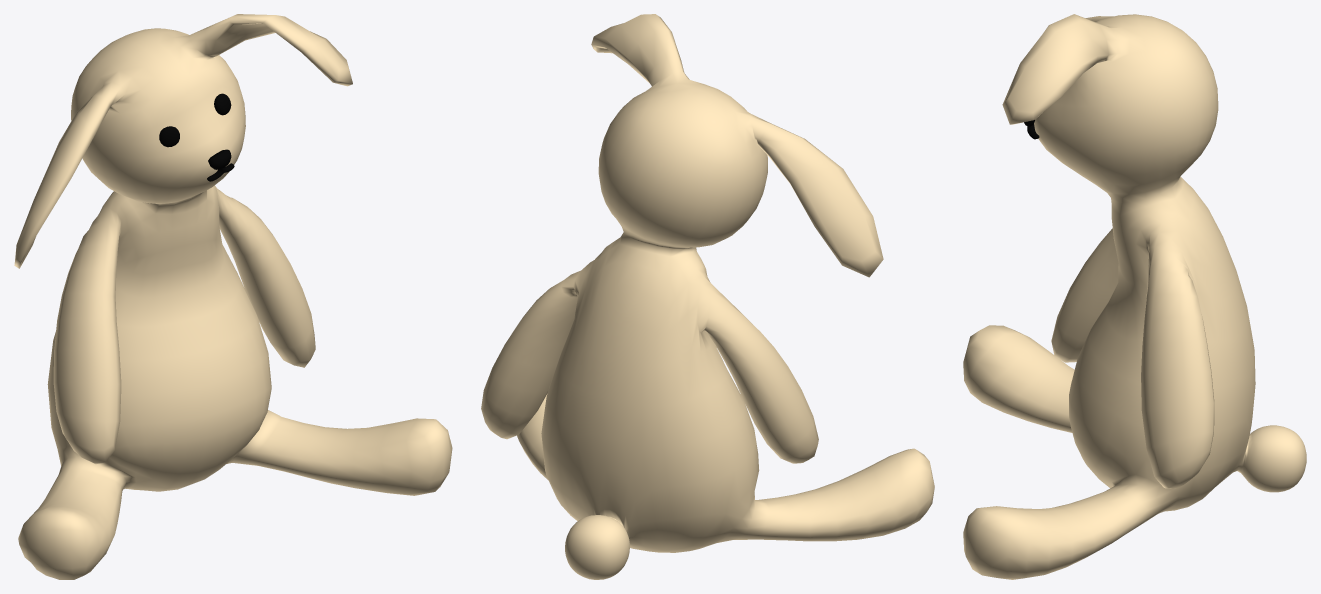
The model's file is coniglio.fbx.
3 views of the same model, side by side, from view 1: azimuth 30°, elevation 25°; view 2: azimuth 150°, elevation 25°; view 3: azimuth 270°, elevation 25° (orthographic). The views are drawn at different scales.
Visible parts, largest first — view 1: coniglio; view 2: coniglio; view 3: coniglio.
Boxes of the visible parts, x1,y1,x2,y2 form: coniglio: [14, 14, 452, 579]; coniglio: [481, 14, 934, 579]; coniglio: [963, 14, 1306, 579].
Bounding box in the file's own units: 45.53 × 50.86 × 31.83.
